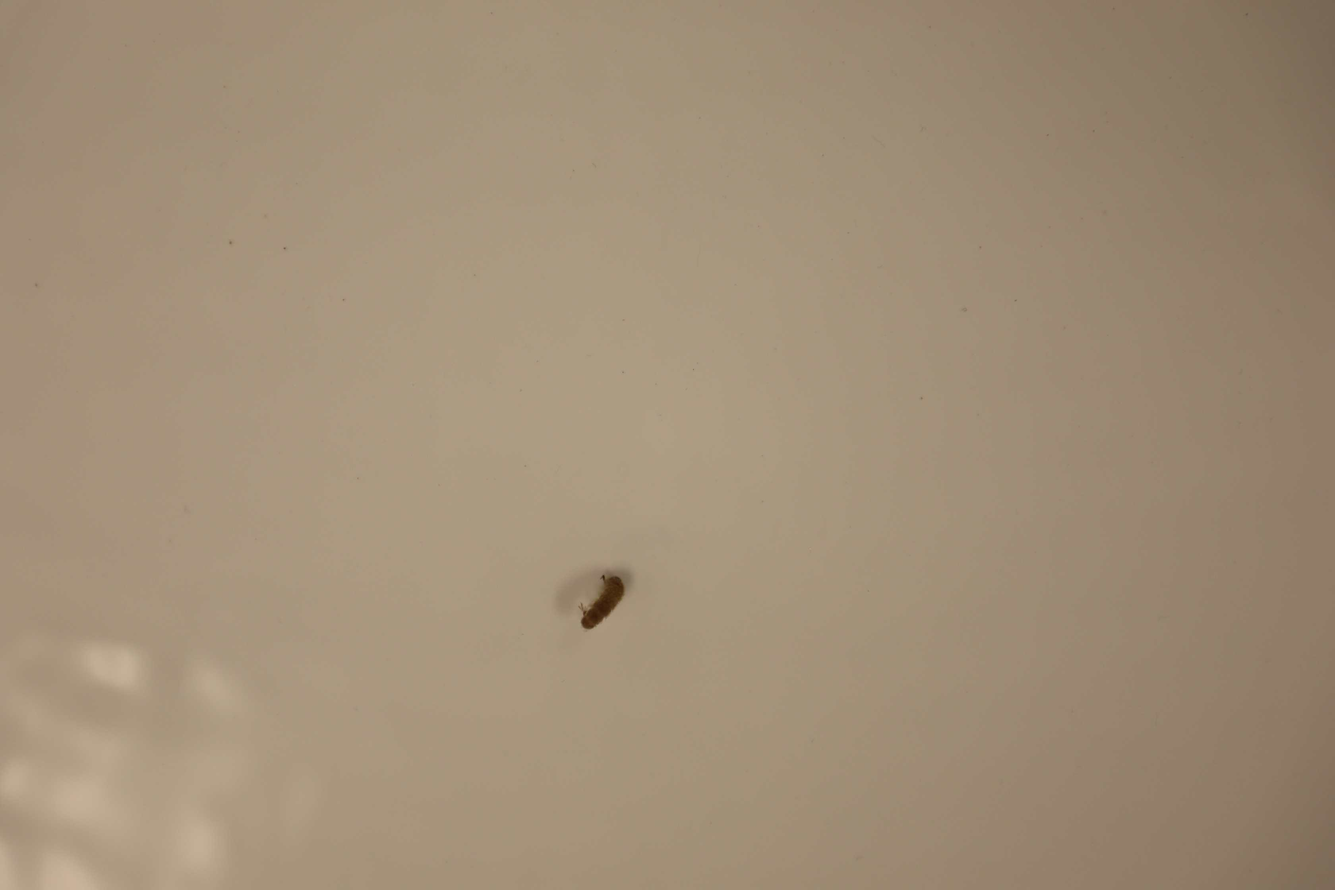Cadisfly: (576, 570, 631, 632)
